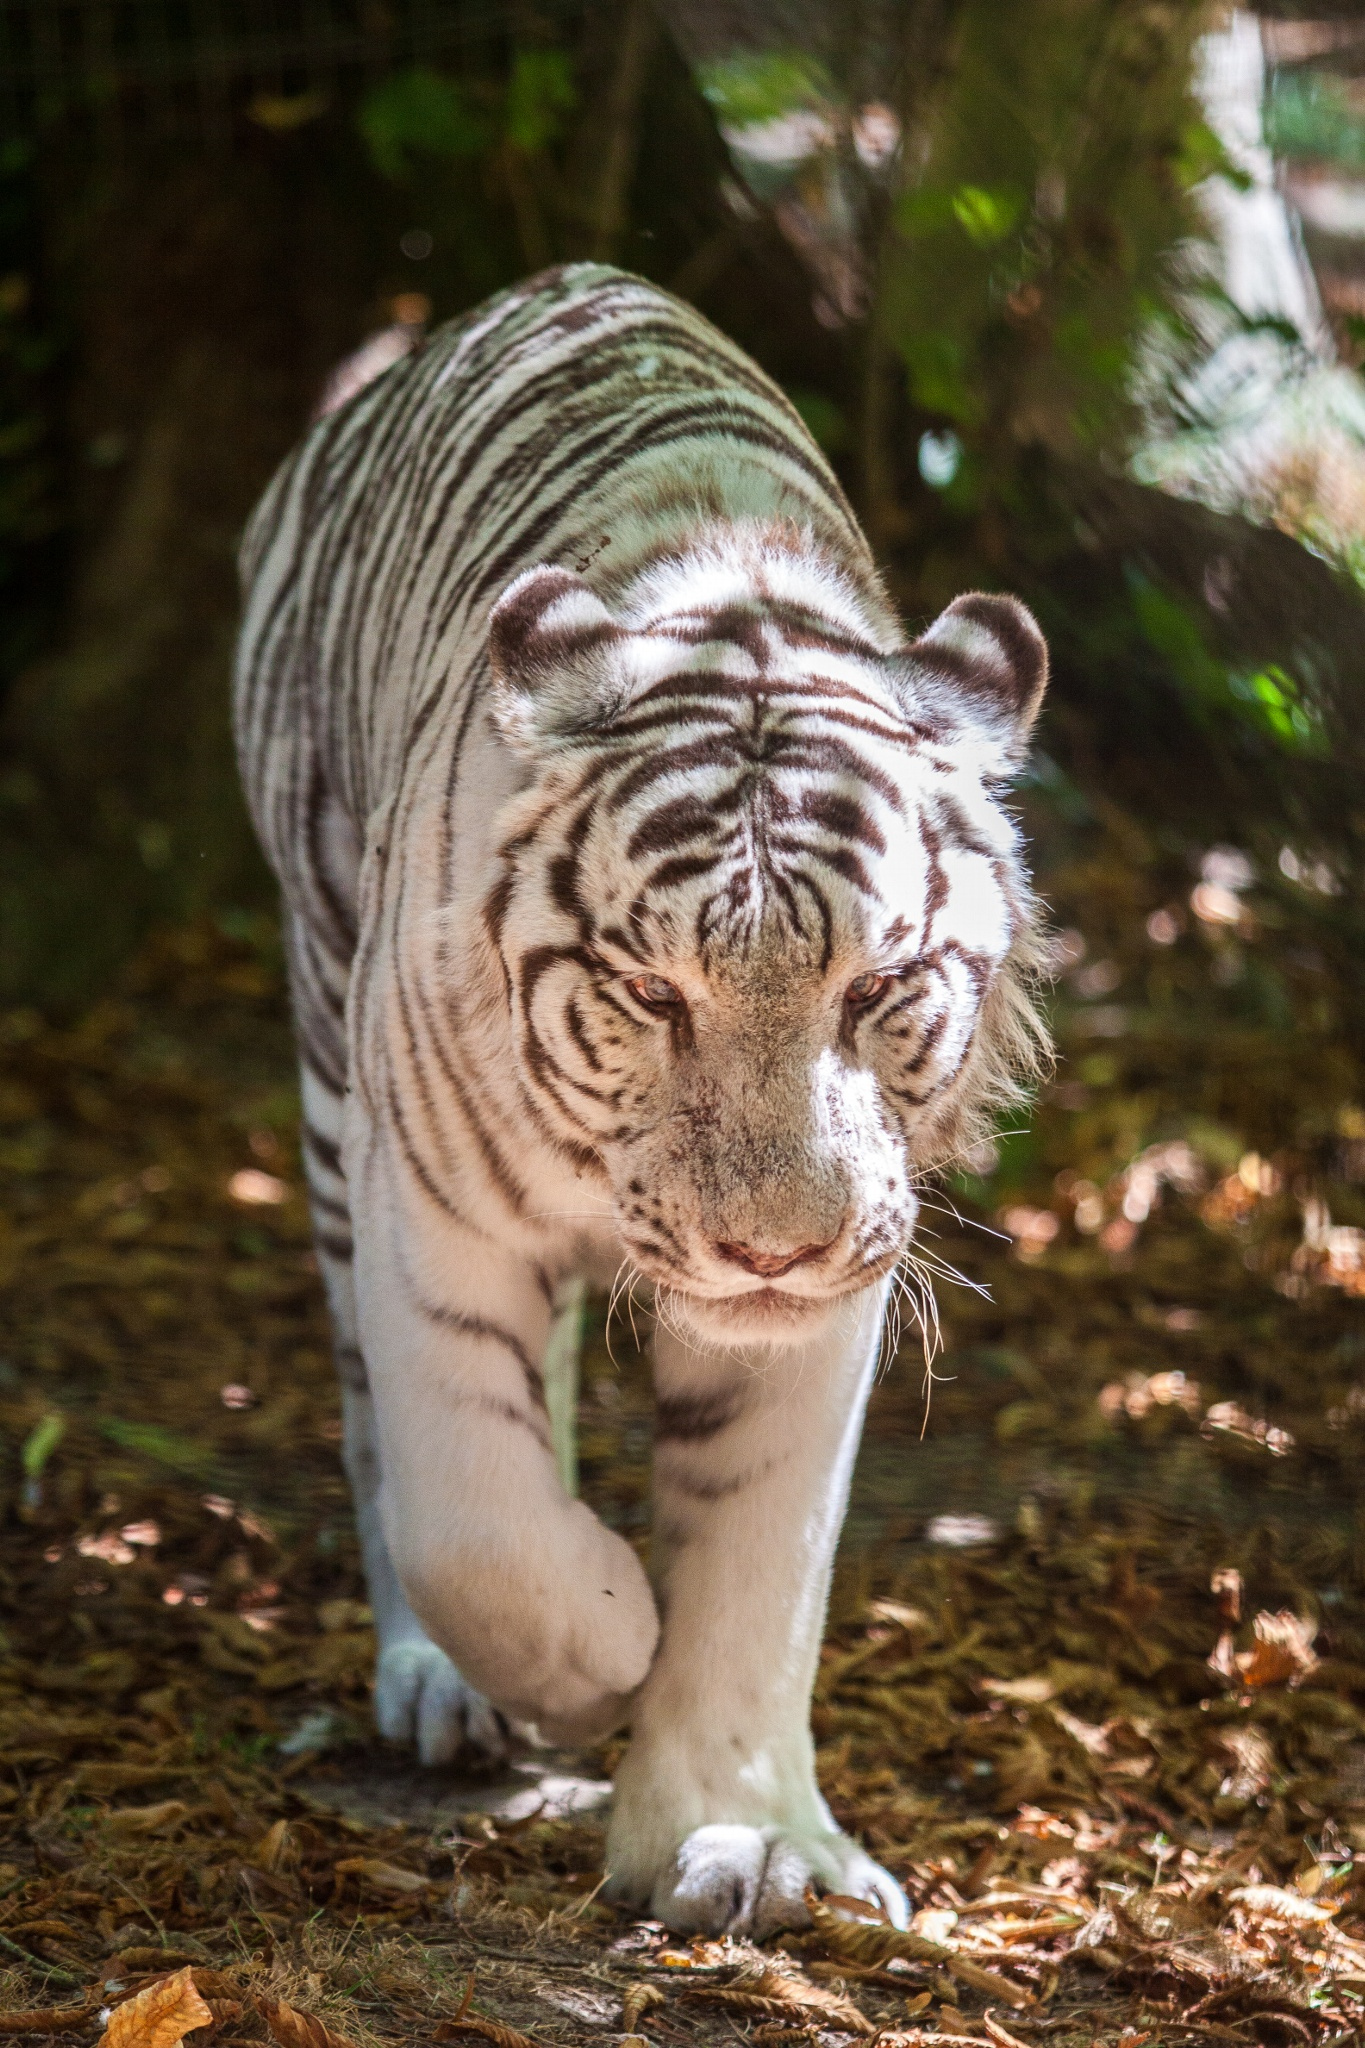tiger: (245, 262, 1079, 1941)
